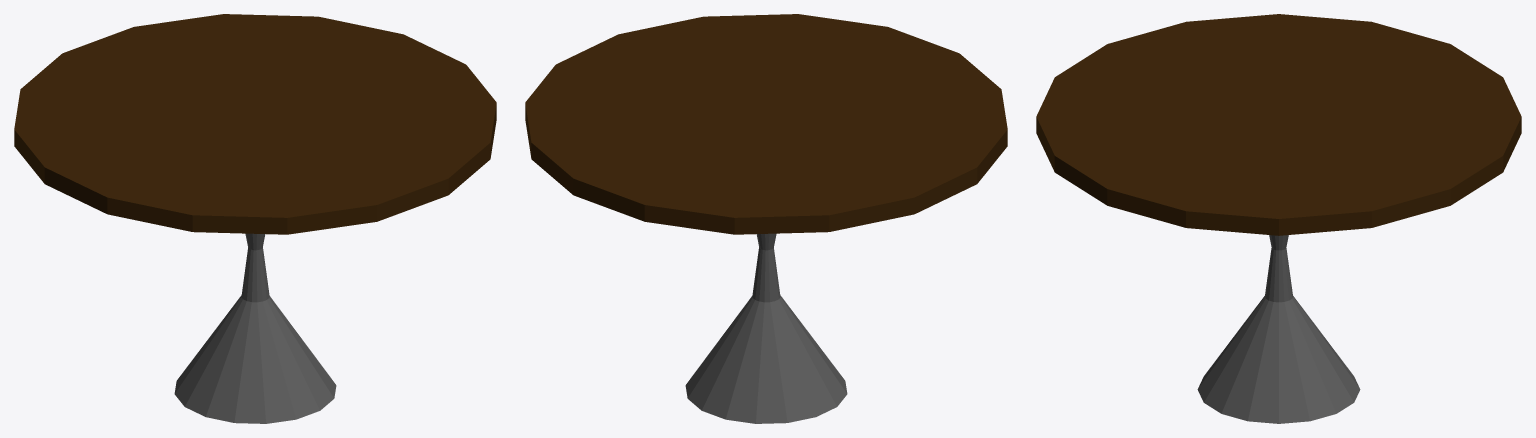
File: Table.fbx
The picture shows the model from 3 angles, left to right: view 1: azimuth 30°, elevation 25°; view 2: azimuth 150°, elevation 25°; view 3: azimuth 270°, elevation 25°; orthographic projection.
Parts seen in each view (by area): view 1: Table; view 2: Table; view 3: Table.
Part boxes in pixels (x1,y1,x2,y2): Table: (14,14,496,423); Table: (525,14,1007,423); Table: (1036,14,1521,423).
Bounding box in the file's own units: 113 × 70 × 113.
